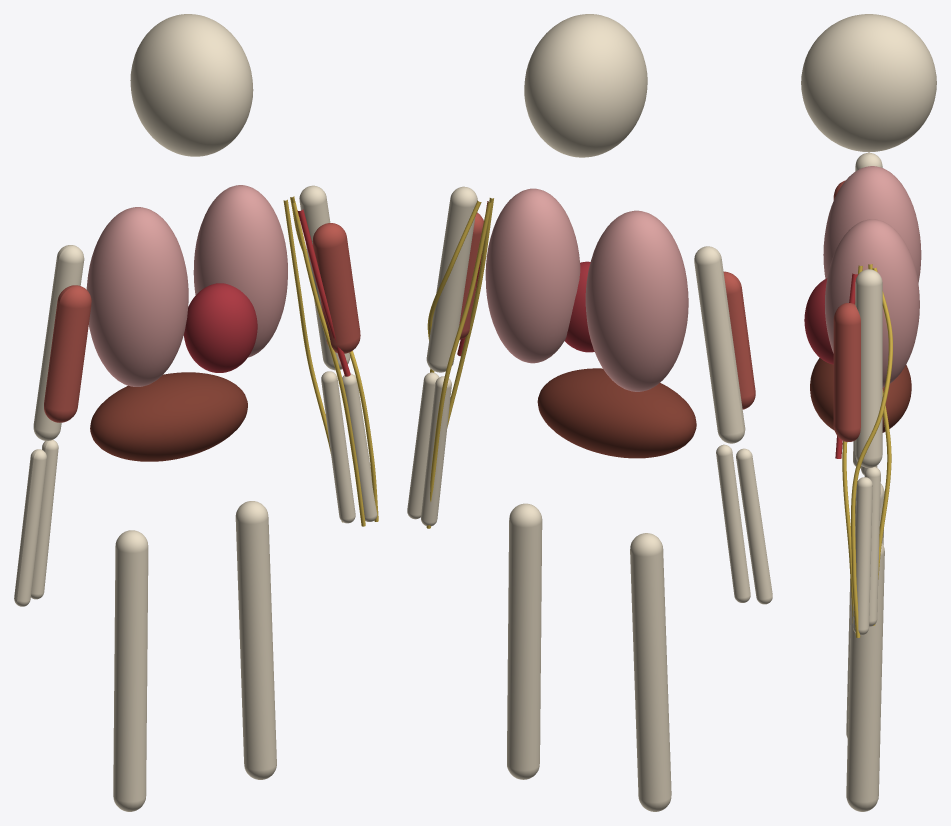
The model's file is anatomy-demo.glb.
3 renders of one model, left to right at view 1: azimuth 30°, elevation 25°; view 2: azimuth 150°, elevation 25°; view 3: azimuth 270°, elevation 25°, orthographic. The views are drawn at different scales.
Parts seen in each view (by area): view 1: demo_lung_right, demo_skull, demo_liver, demo_lung_left, demo_femur_right, demo_femur_left, demo_heart, demo_biceps_right, demo_biceps_left, demo_humerus_right, demo_radius_right, demo_ulna_left (+7 smaller); view 2: demo_lung_right, demo_skull, demo_lung_left, demo_liver, demo_femur_right, demo_femur_left, demo_humerus_right, demo_humerus_left, demo_ulna_right, demo_radius_right, demo_biceps_right, demo_ulna_left (+6 smaller); view 3: demo_skull, demo_lung_left, demo_femur_left, demo_lung_right, demo_humerus_left, demo_biceps_left, demo_liver, demo_radius_left, demo_radial_nerve_left, demo_heart, demo_ulna_left, demo_ulnar_nerve_left (+4 smaller).
Boxes of the visible parts, x1,y1,x2,y2 form: demo_lung_right: [86, 207, 188, 386]; demo_skull: [130, 14, 253, 156]; demo_liver: [90, 372, 247, 461]; demo_lung_left: [193, 185, 287, 357]; demo_femur_right: [113, 530, 148, 811]; demo_femur_left: [235, 501, 276, 779]; demo_heart: [183, 283, 257, 372]; demo_biceps_right: [44, 285, 91, 422]; demo_biceps_left: [312, 223, 360, 353]; demo_humerus_right: [33, 245, 84, 440]; demo_radius_right: [14, 449, 46, 606]; demo_ulna_left: [321, 371, 355, 523]; demo_lung_right: [585, 210, 688, 391]; demo_skull: [524, 14, 647, 157]; demo_lung_left: [485, 188, 580, 363]; demo_liver: [537, 368, 696, 458]; demo_femur_right: [630, 533, 671, 811]; demo_femur_left: [507, 503, 542, 779]; demo_humerus_right: [694, 246, 745, 443]; demo_humerus_left: [426, 186, 477, 372]; demo_ulna_right: [716, 444, 750, 602]; demo_radius_right: [736, 448, 772, 604]; demo_biceps_right: [723, 271, 755, 409]; demo_ulna_left: [421, 376, 451, 526]; demo_skull: [801, 14, 936, 152]; demo_lung_left: [825, 219, 919, 387]; demo_femur_left: [846, 543, 884, 811]; demo_lung_right: [823, 166, 921, 283]; demo_humerus_left: [855, 269, 882, 467]; demo_biceps_left: [833, 303, 860, 441]; demo_liver: [810, 358, 911, 432]; demo_radius_left: [853, 477, 872, 635]; demo_radial_nerve_left: [851, 267, 892, 637]; demo_heart: [804, 278, 833, 364]; demo_ulna_left: [864, 467, 880, 626]; demo_ulnar_nerve_left: [868, 264, 891, 625].
Bounding box in the file's own units: 0.6054 × 1.24 × 0.2.
